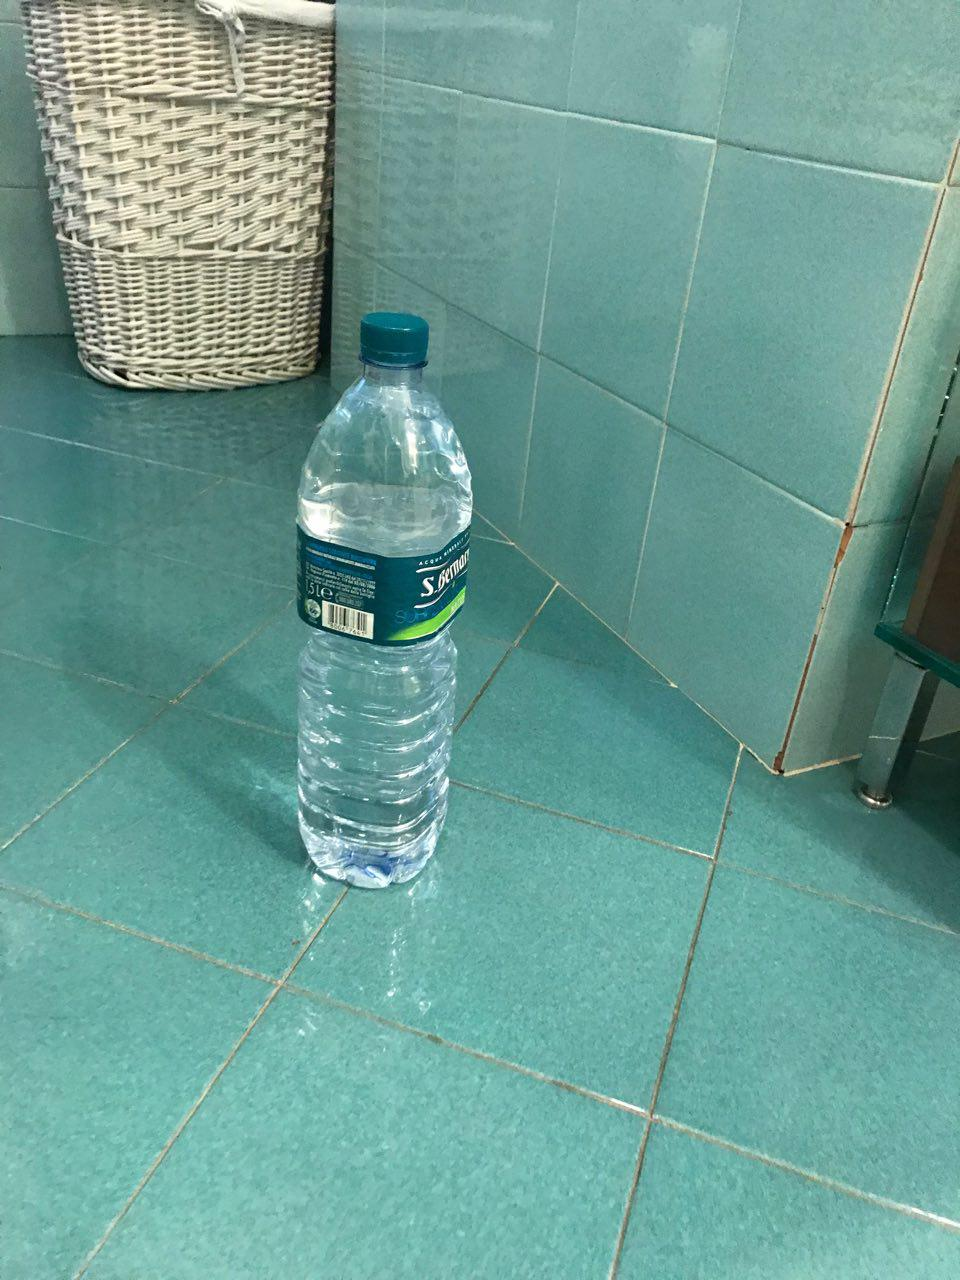san_bernardo: (295, 312, 473, 891)
